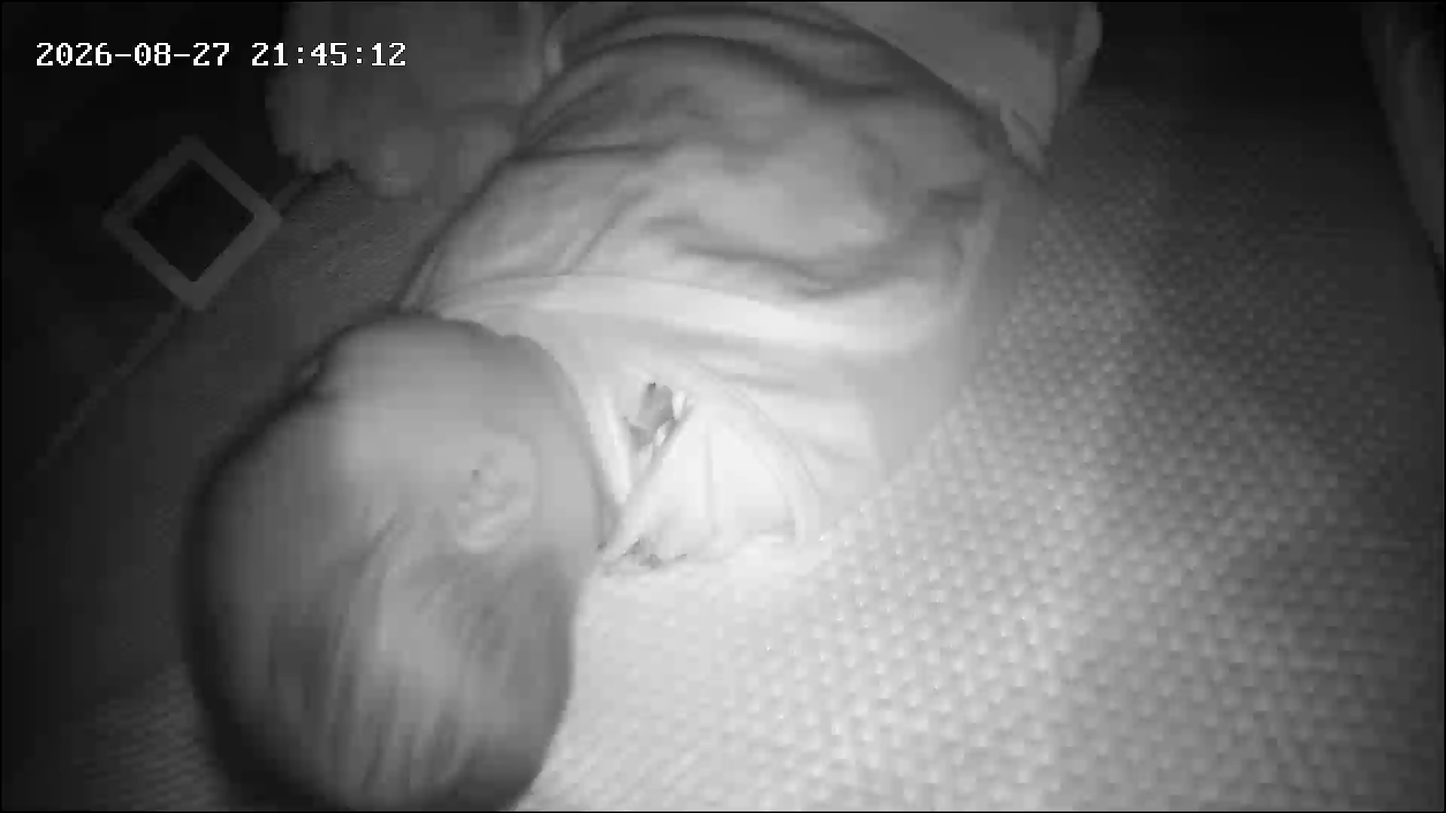baby: (156, 5, 1079, 812)
baby_face: (171, 301, 621, 810)
